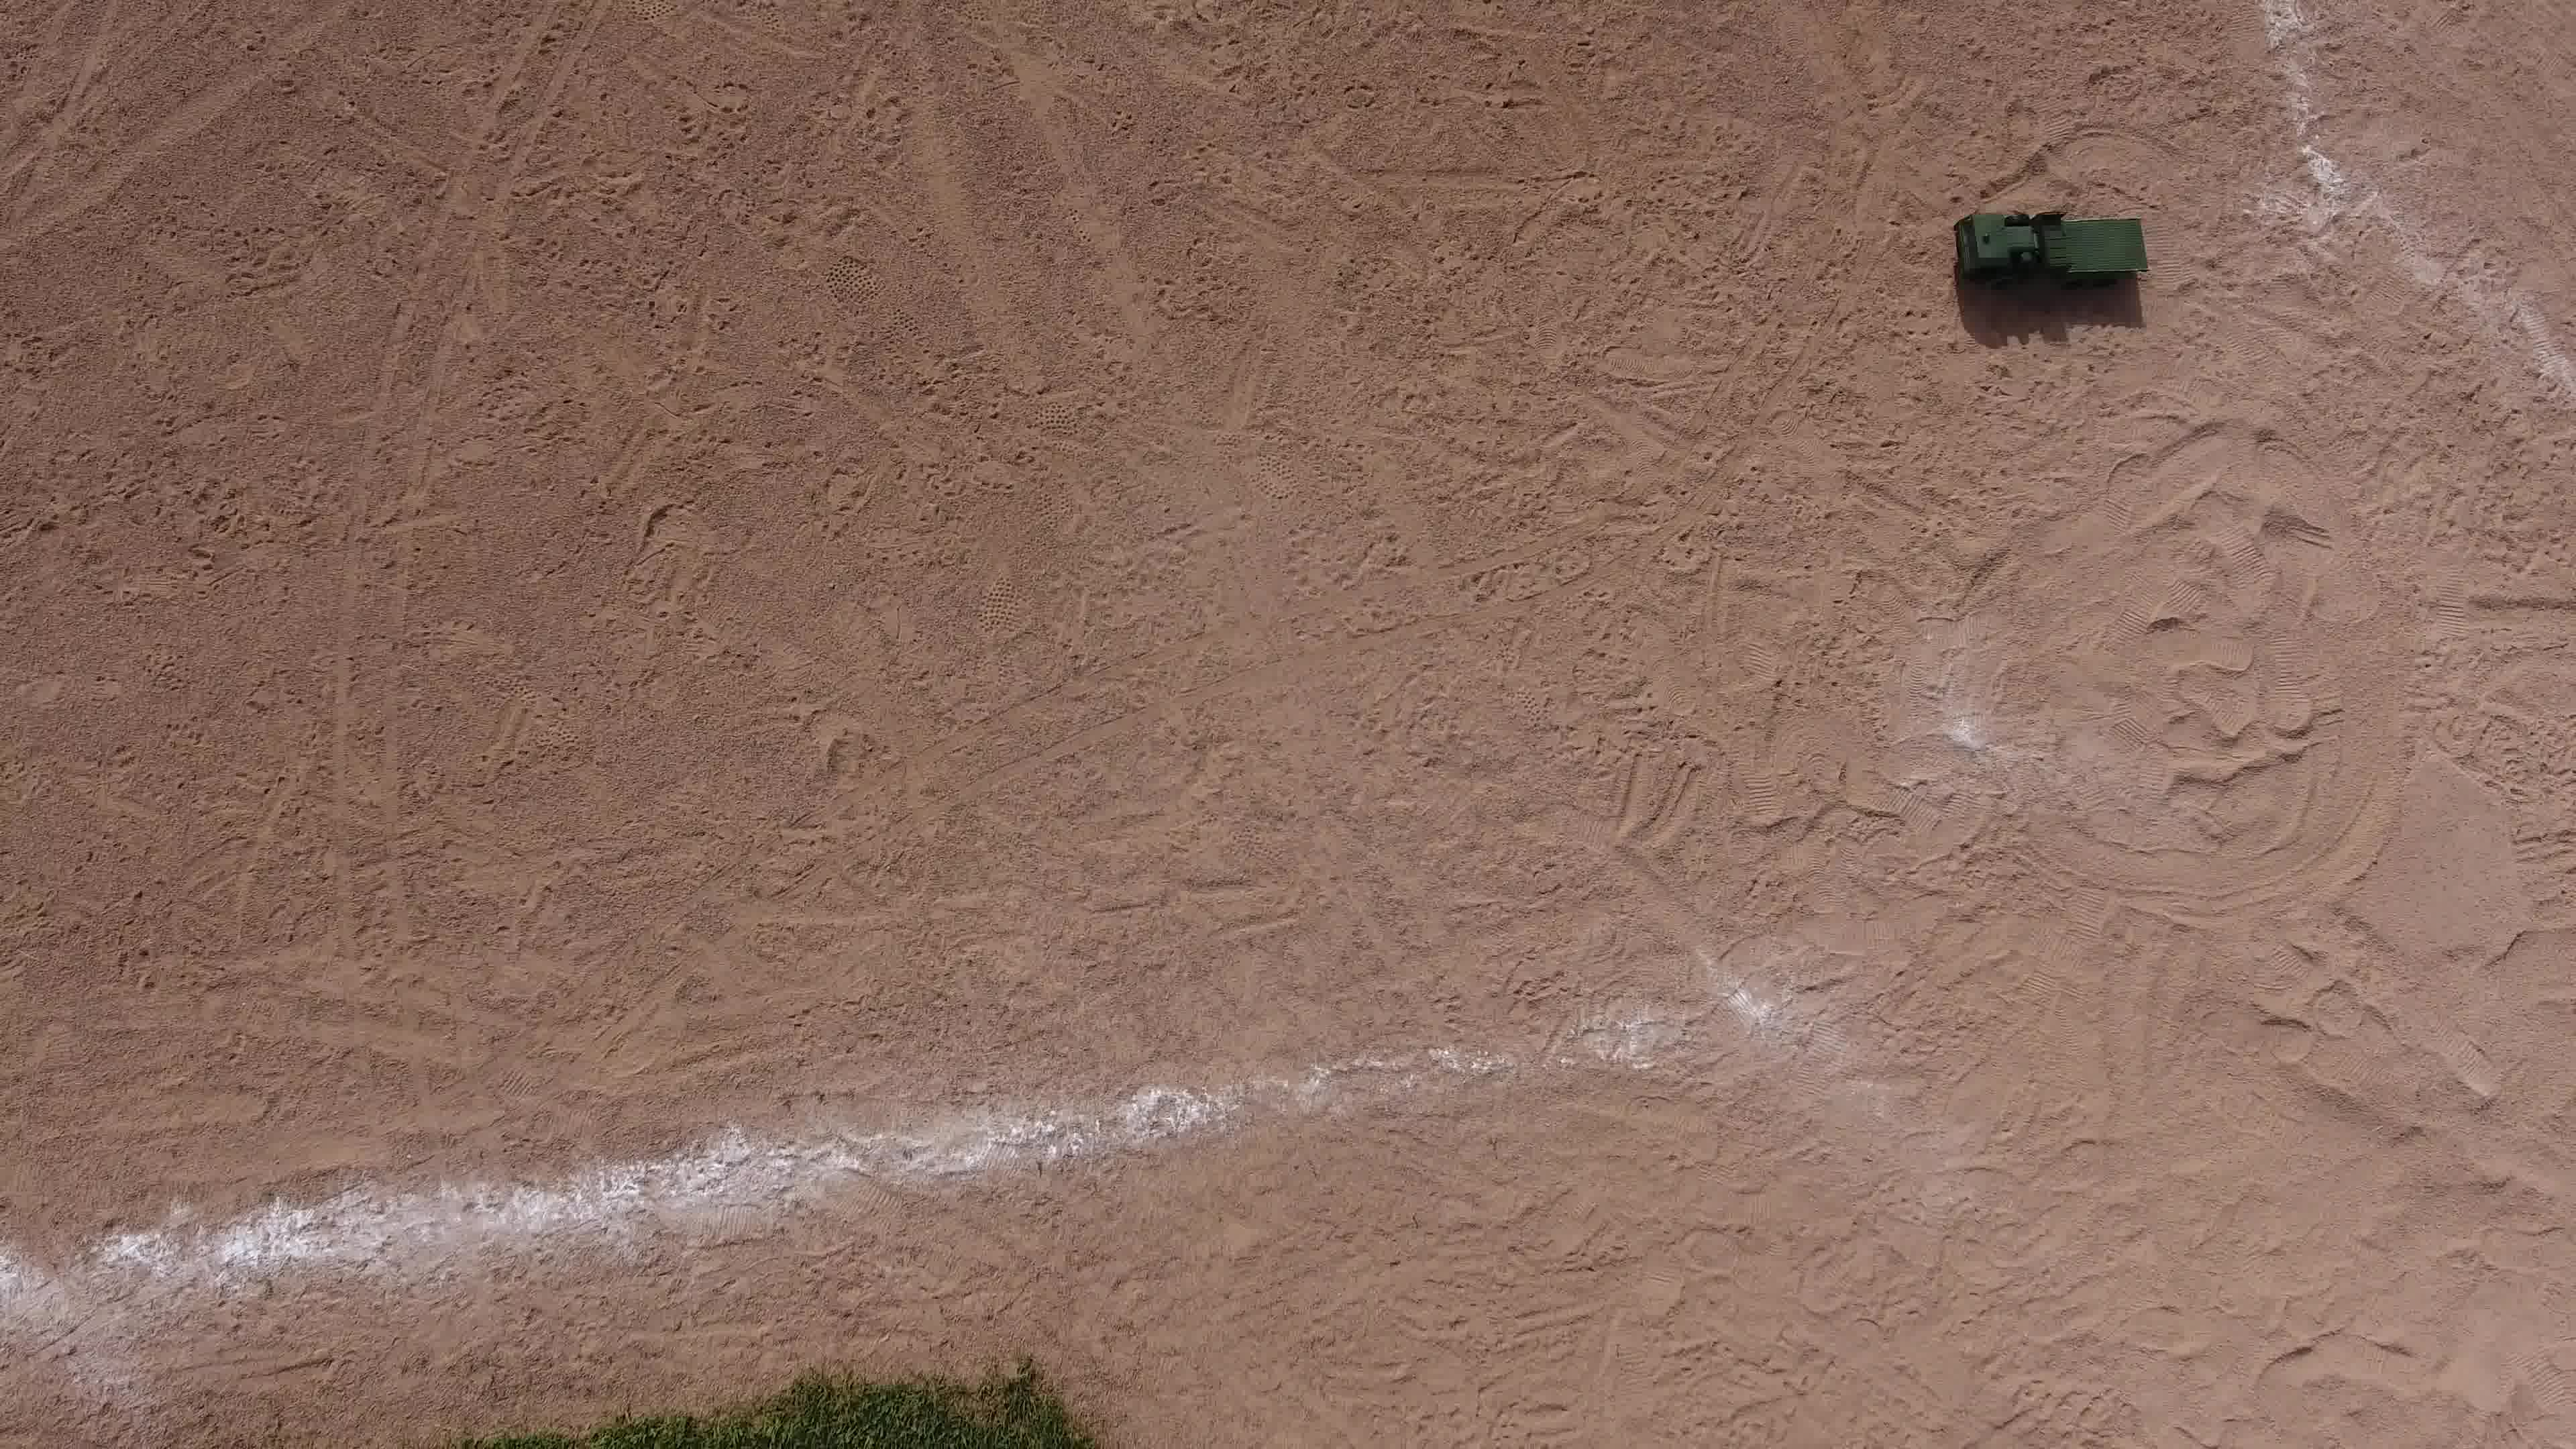transporter9: (1944, 200, 2162, 310)
